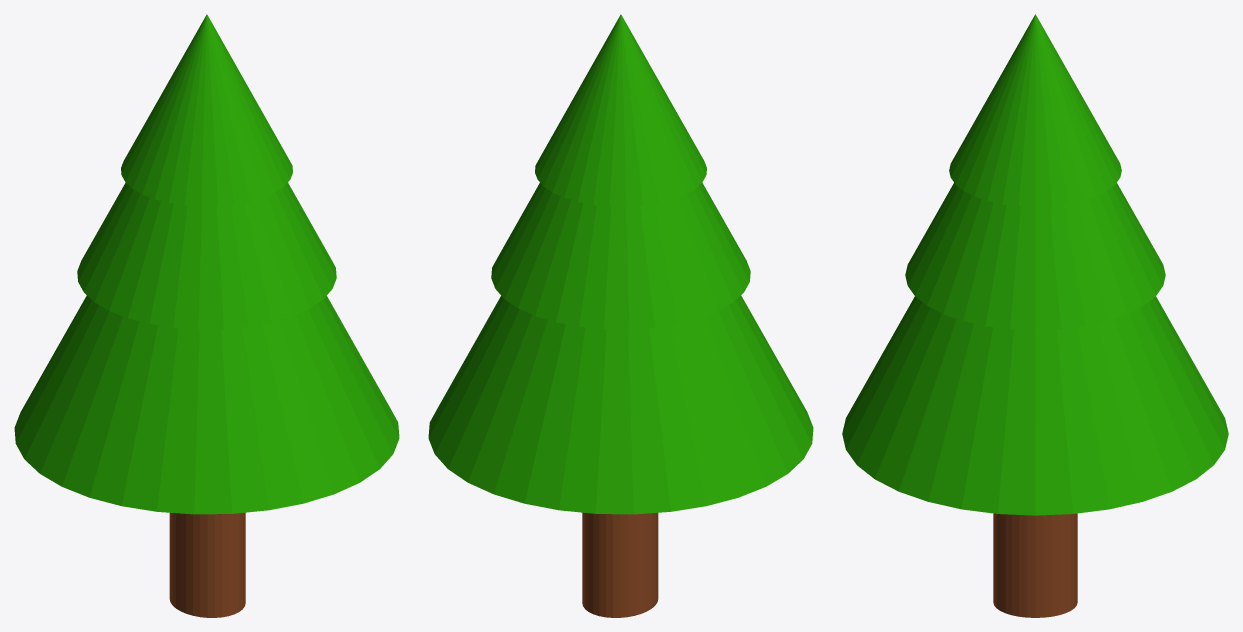
Rendered from PineTree.fbx.
The picture shows the model from 3 angles, left to right: view 1: azimuth 30°, elevation 25°; view 2: azimuth 150°, elevation 25°; view 3: azimuth 270°, elevation 25°; orthographic projection.
Visible parts, largest first — view 1: Cone.002, Cone, Cone.001, Cylinder; view 2: Cone.002, Cone, Cone.001, Cylinder; view 3: Cone.002, Cone, Cone.001, Cylinder.
Boxes of the visible parts, bbox=[...] form: Cone.002: bbox=[14, 295, 399, 514]; Cone: bbox=[77, 182, 336, 329]; Cone.001: bbox=[121, 14, 292, 206]; Cylinder: bbox=[169, 512, 245, 617]; Cone.002: bbox=[428, 295, 813, 514]; Cone: bbox=[491, 182, 750, 329]; Cone.001: bbox=[535, 14, 706, 206]; Cylinder: bbox=[582, 512, 658, 617]; Cone.002: bbox=[842, 296, 1228, 515]; Cone: bbox=[905, 183, 1165, 330]; Cone.001: bbox=[949, 14, 1121, 206]; Cylinder: bbox=[993, 513, 1077, 617].
Size of the model in its own units: 447 by 751 by 447.
